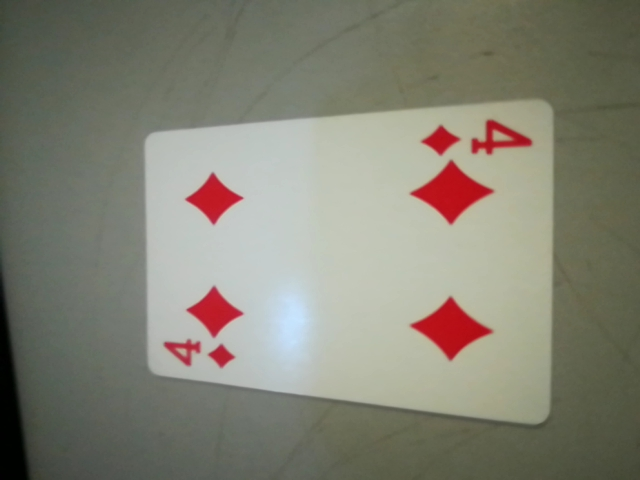fk 4: (411, 116, 531, 165)
